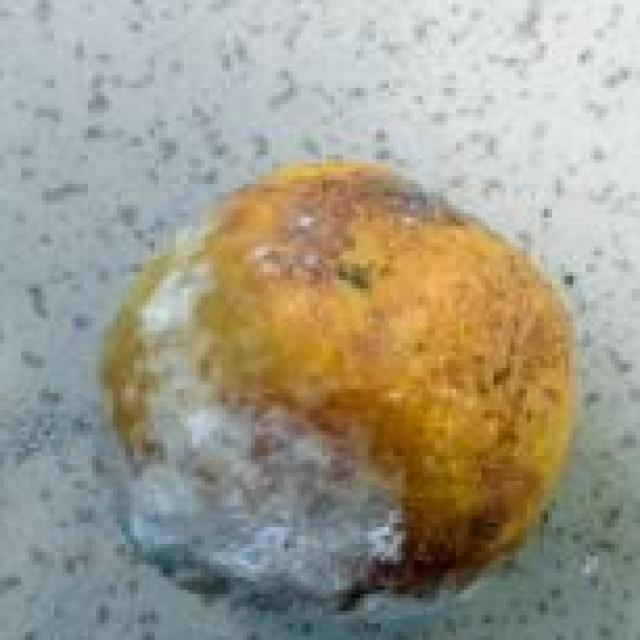Bad_Lime-0-1-day: (92, 159, 581, 619)
